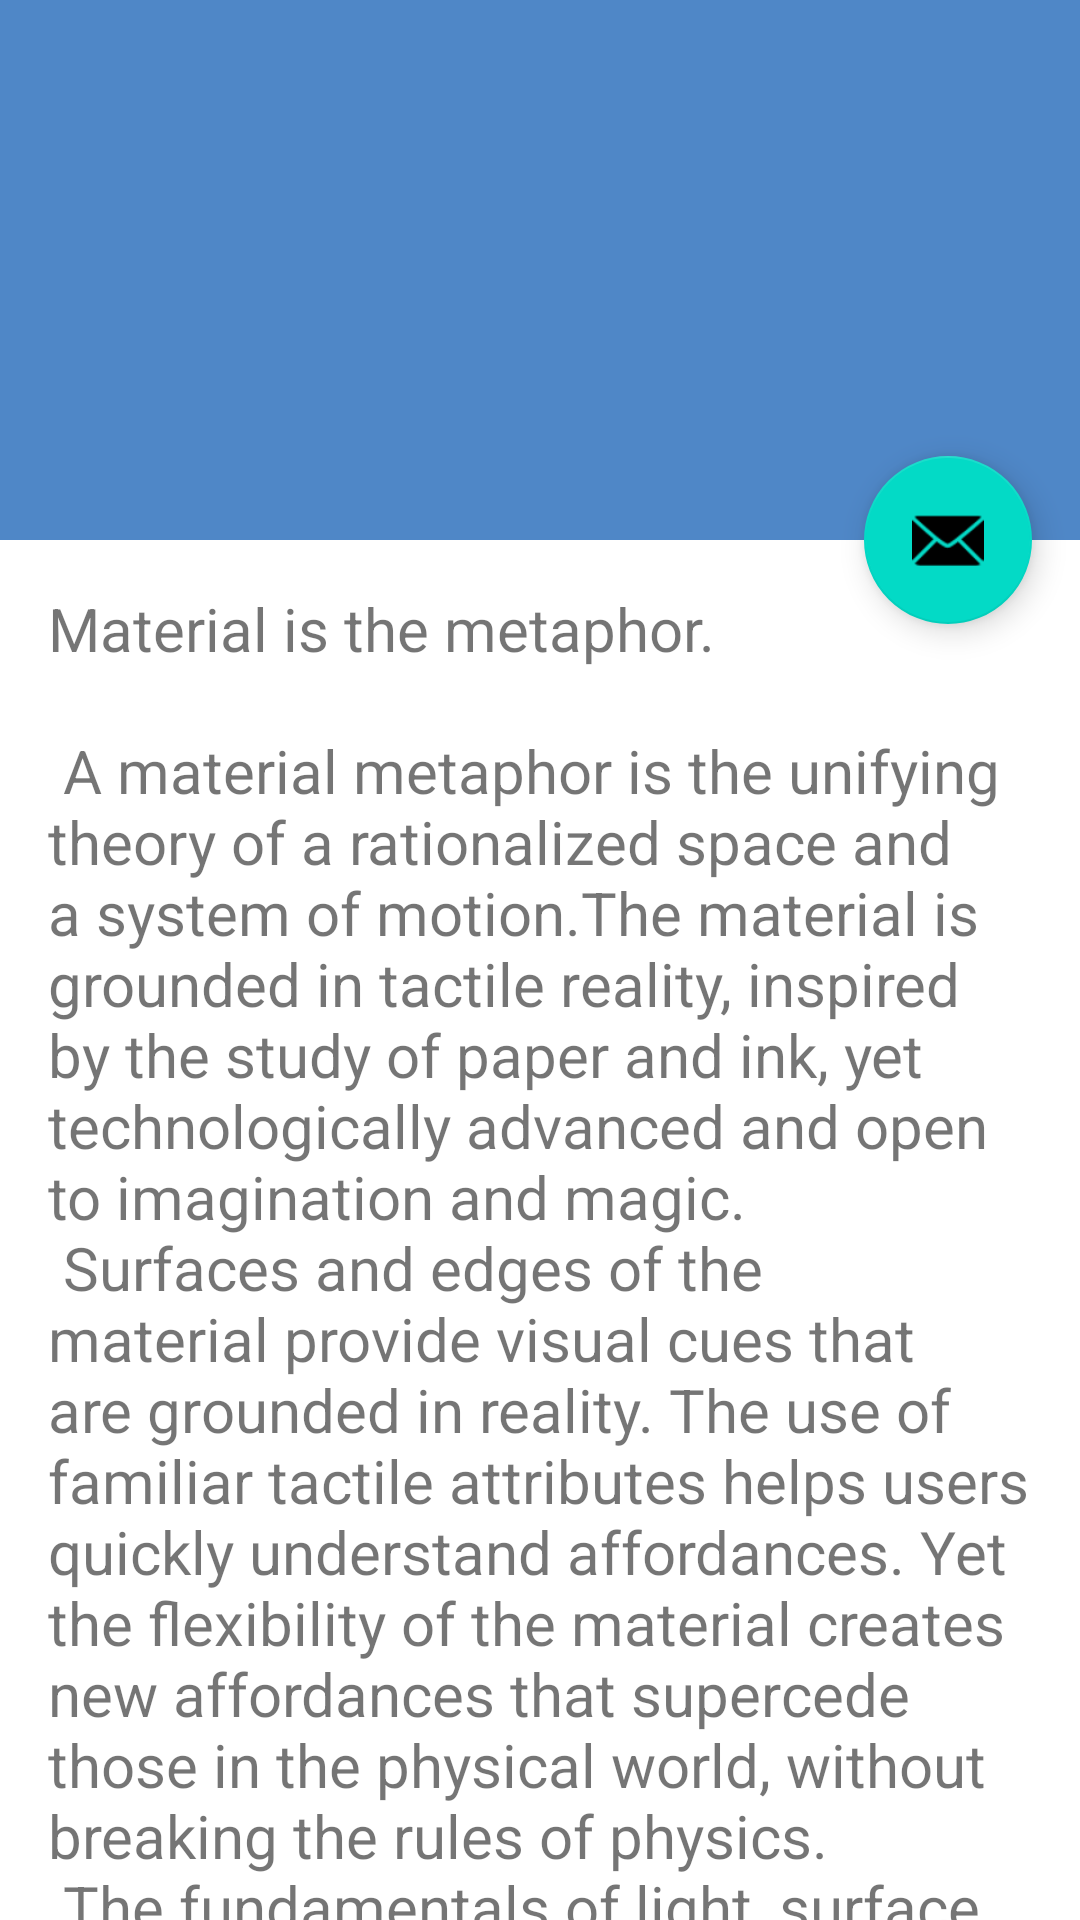

Icon click points for this 1080×1920 phone screenshot, format (x,y):
email: (948,540)
